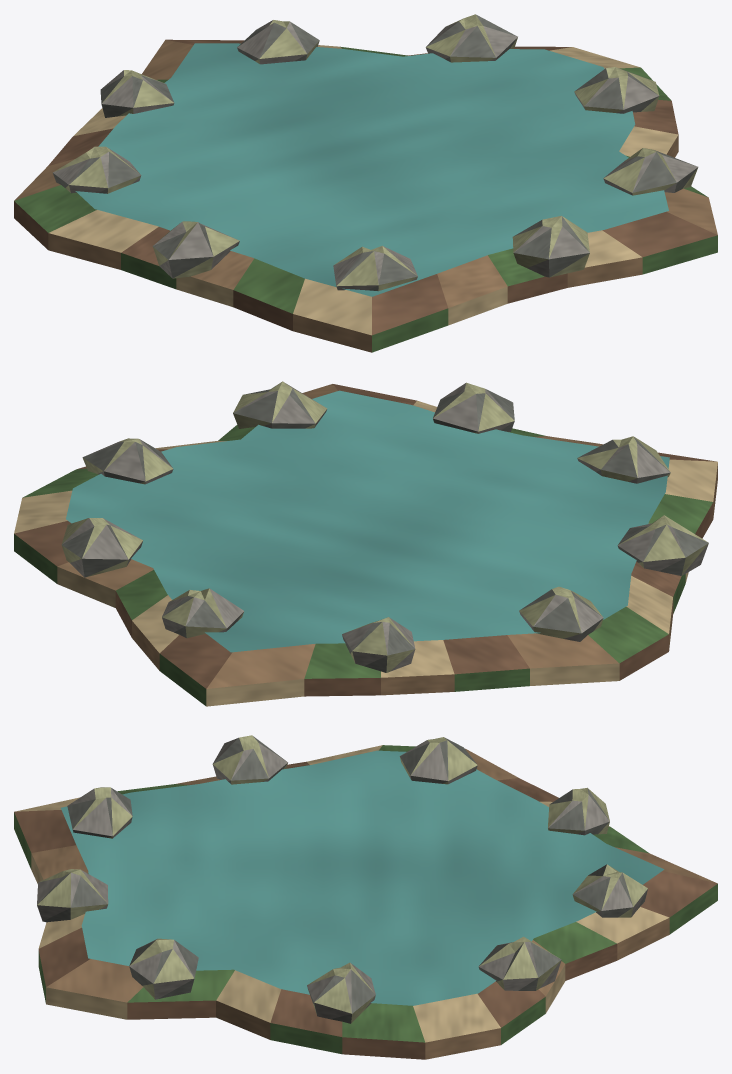
The model's file is spring_pool.fbx.
3 renders of one model, top to bottom at view 1: azimuth 30°, elevation 25°; view 2: azimuth 150°, elevation 25°; view 3: azimuth 270°, elevation 25°, orthographic. The views are drawn at different scales.
Visible parts, largest first — view 1: spring_pool; view 2: spring_pool; view 3: spring_pool.
Part boxes in pixels (x1,y1,x2,y2): spring_pool: (14,14,717,352); spring_pool: (14,381,717,706); spring_pool: (14,735,717,1059).
Size of the model in its own units: 400 by 39 by 400.
2 materials, 2 textured.
